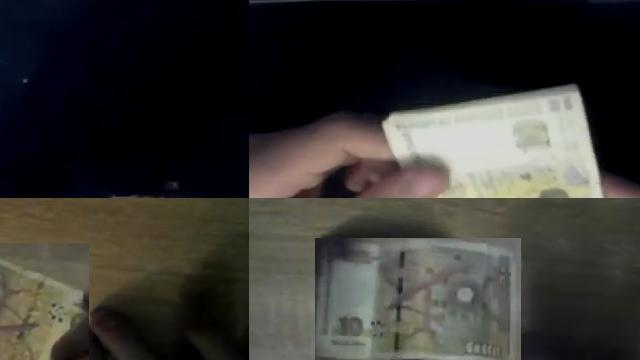10leva: (315, 238, 521, 360), (0, 258, 84, 360)
